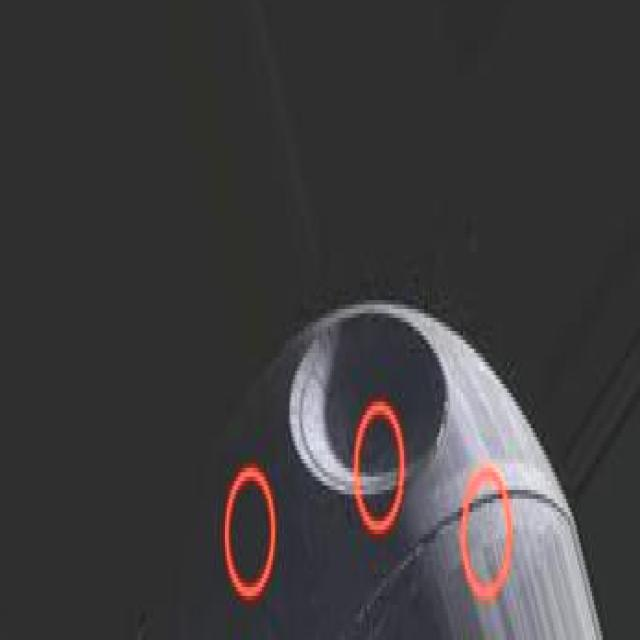deathstar: (151, 304, 607, 640)
